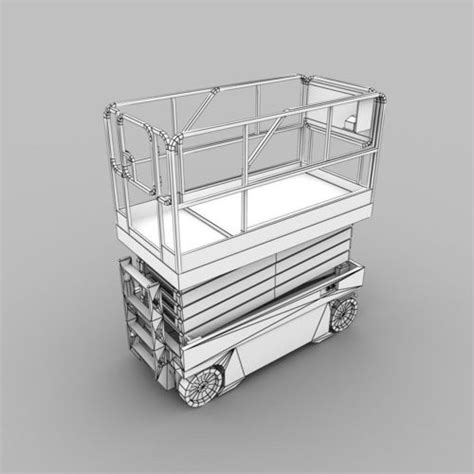Scissor Lift: (102, 73, 388, 407)
